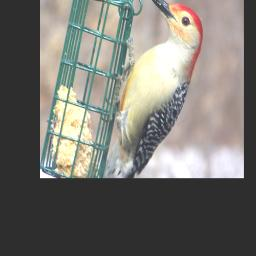Woodpecker: (105, 0, 203, 177)
